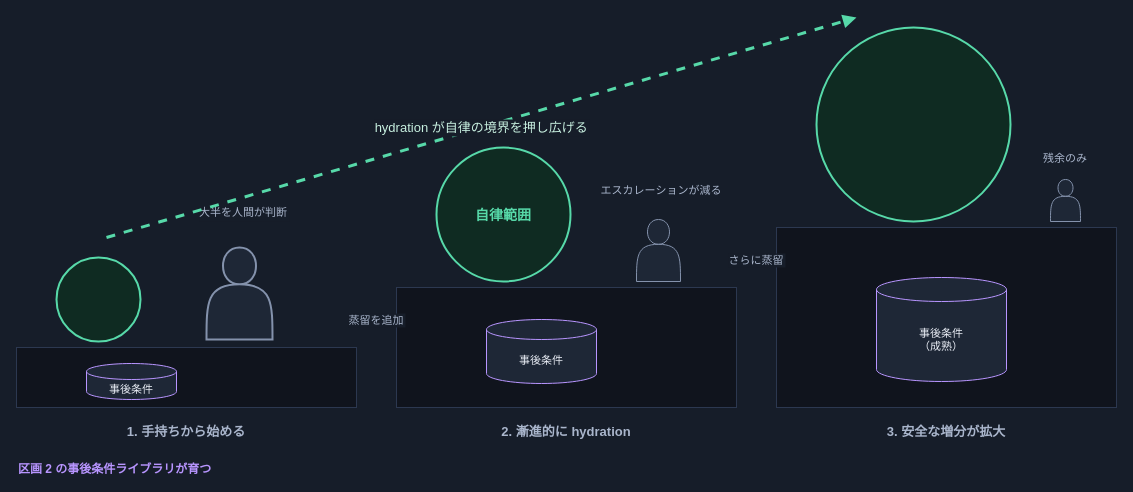
Some shapes in this 1133 by 492 pixel diagram are drawn without their labels. Each missing label, with the centre of its shape:
"自律" goes at pixel 98 299.
"自律範囲 複数 stage を 跨いで進行" goes at pixel 913 124.
